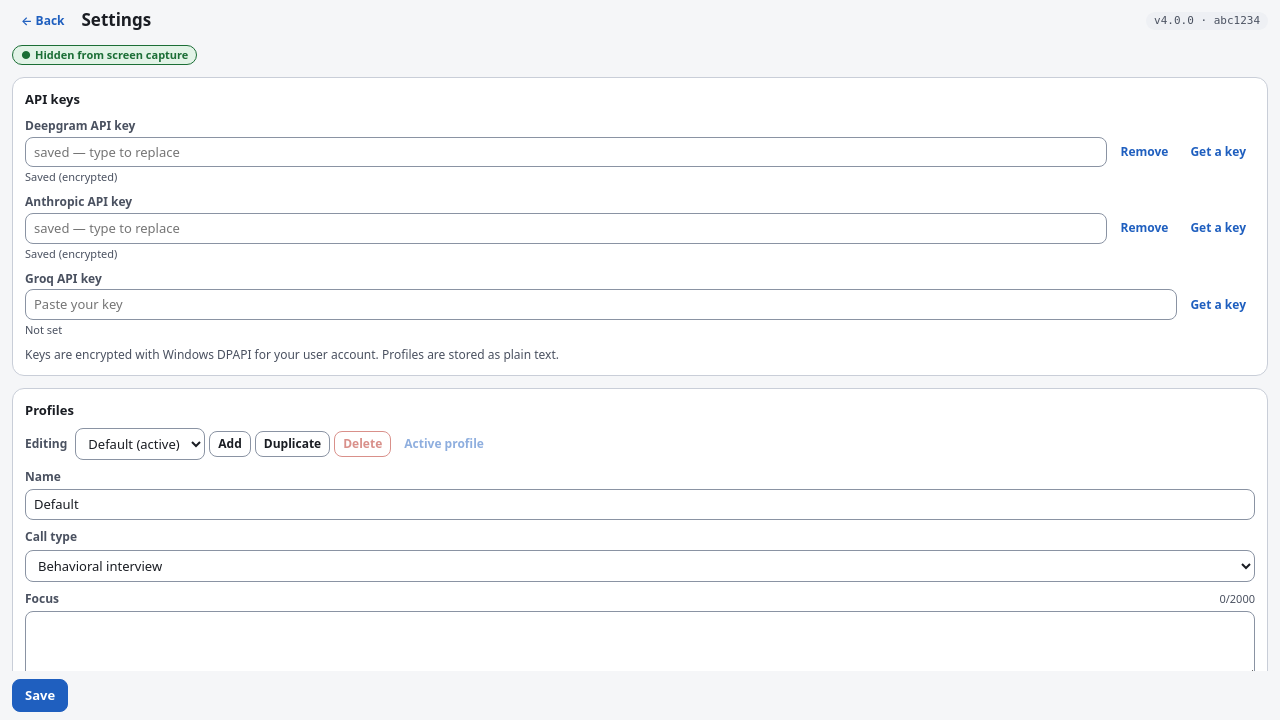
Test: unsaved-changes guard › back_when_dirty_shows_bar_keep_editing_keeps_draft
Type "Go" into the text box labelled "Focus" at (640, 645), box top-left (25, 611), bottom-right (1255, 679)
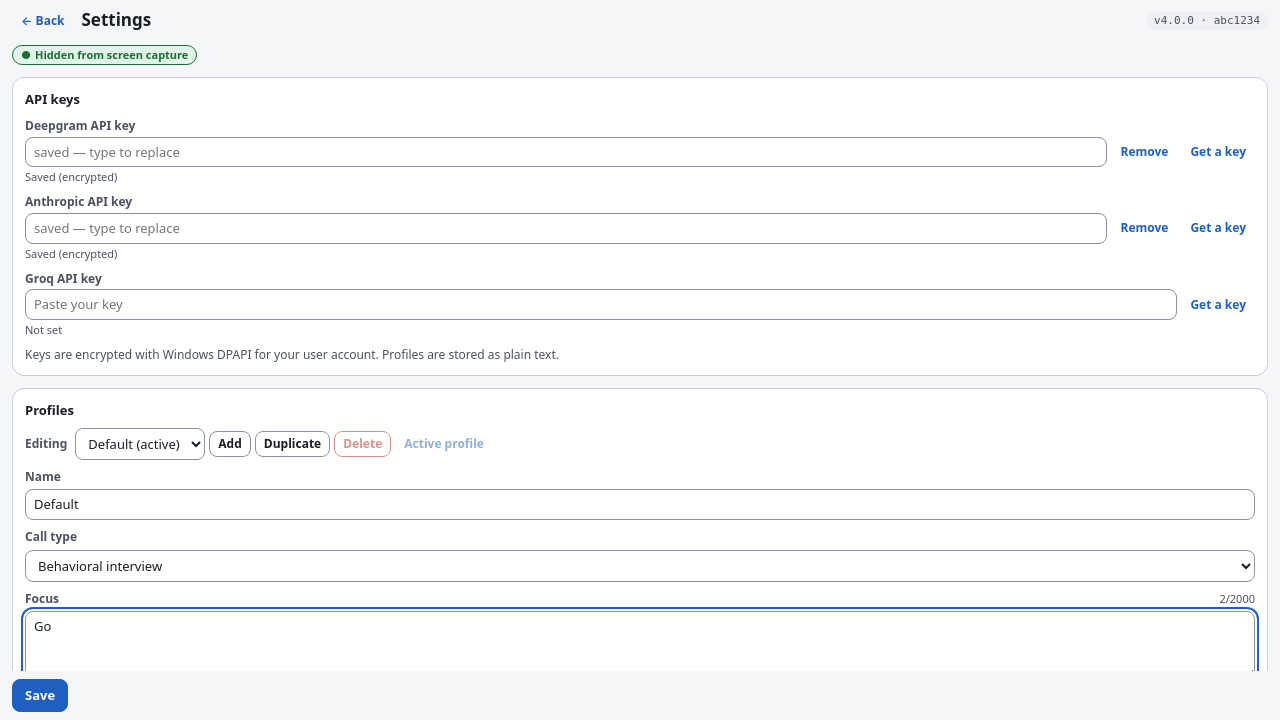
Click the button "← Back" at (43, 21), box top-left (12, 8), bottom-right (74, 33)
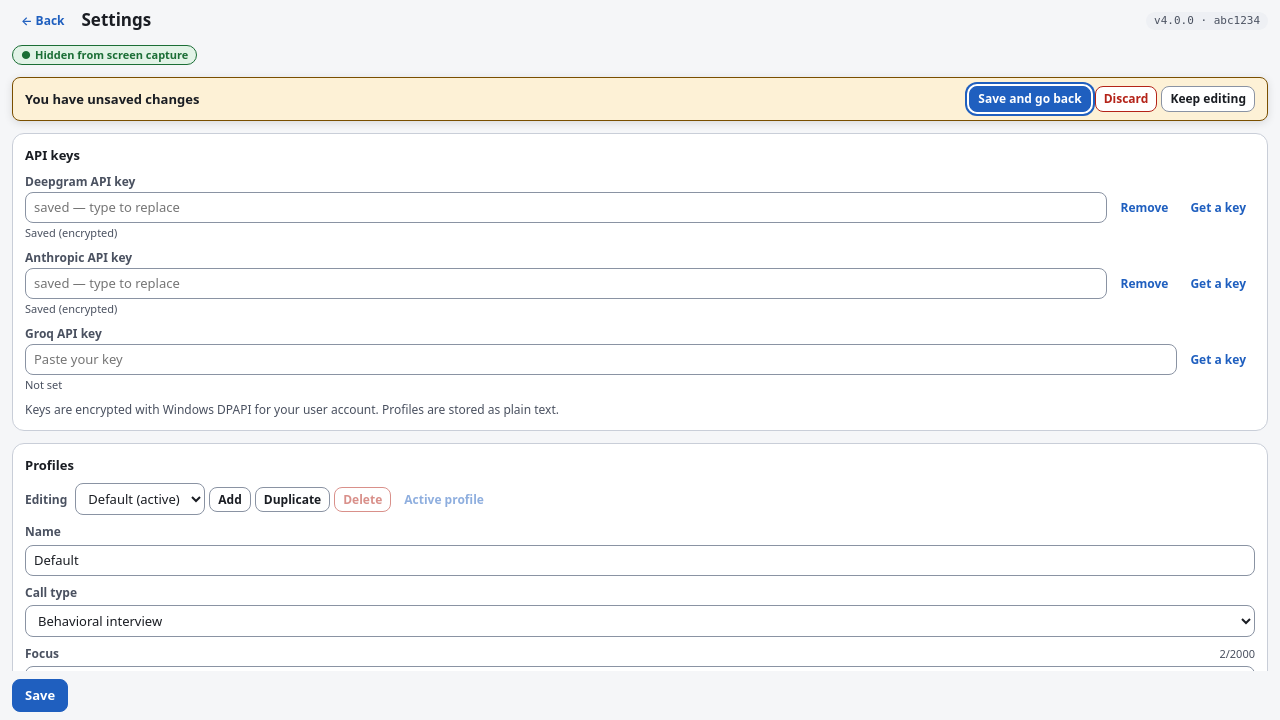
Expected: the dialog with test id "unsaved-bar" shows "You have unsaved changes", top-left (25, 90), bottom-right (199, 108)
Click the button "Keep editing" at (1208, 99), box top-left (1161, 86), bottom-right (1255, 112)
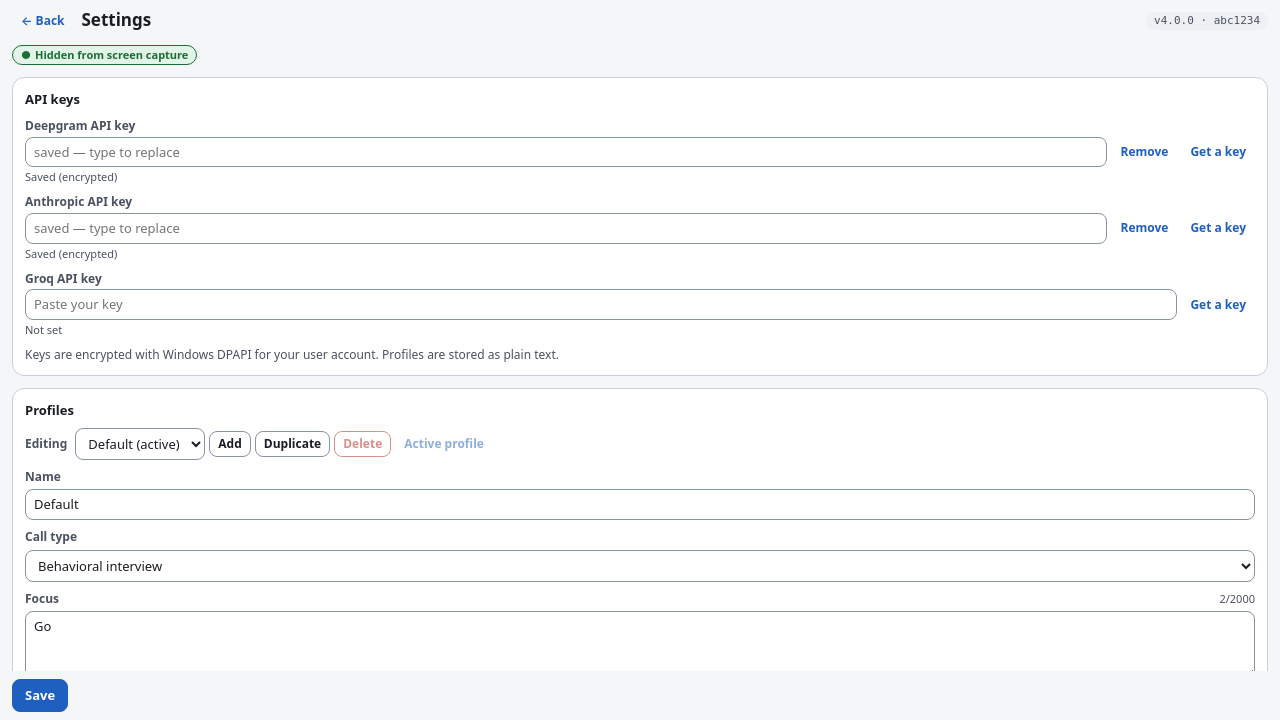
Expected: the dialog with test id "unsaved-bar" is gone
